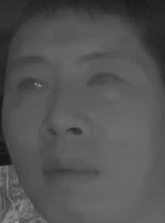eye: (84, 69, 126, 91), (14, 73, 53, 94)
mouth: (39, 149, 102, 193)
